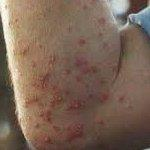Ants: (59, 120, 87, 142), (31, 70, 54, 92), (45, 91, 64, 108), (64, 99, 83, 111), (22, 94, 39, 107), (39, 110, 51, 123), (75, 75, 87, 86), (76, 36, 87, 47), (75, 56, 87, 66), (81, 67, 96, 74), (45, 53, 55, 63), (97, 16, 107, 25), (98, 92, 107, 102), (16, 47, 27, 55), (43, 135, 53, 143), (30, 60, 36, 67), (117, 96, 124, 102), (63, 69, 70, 75)
